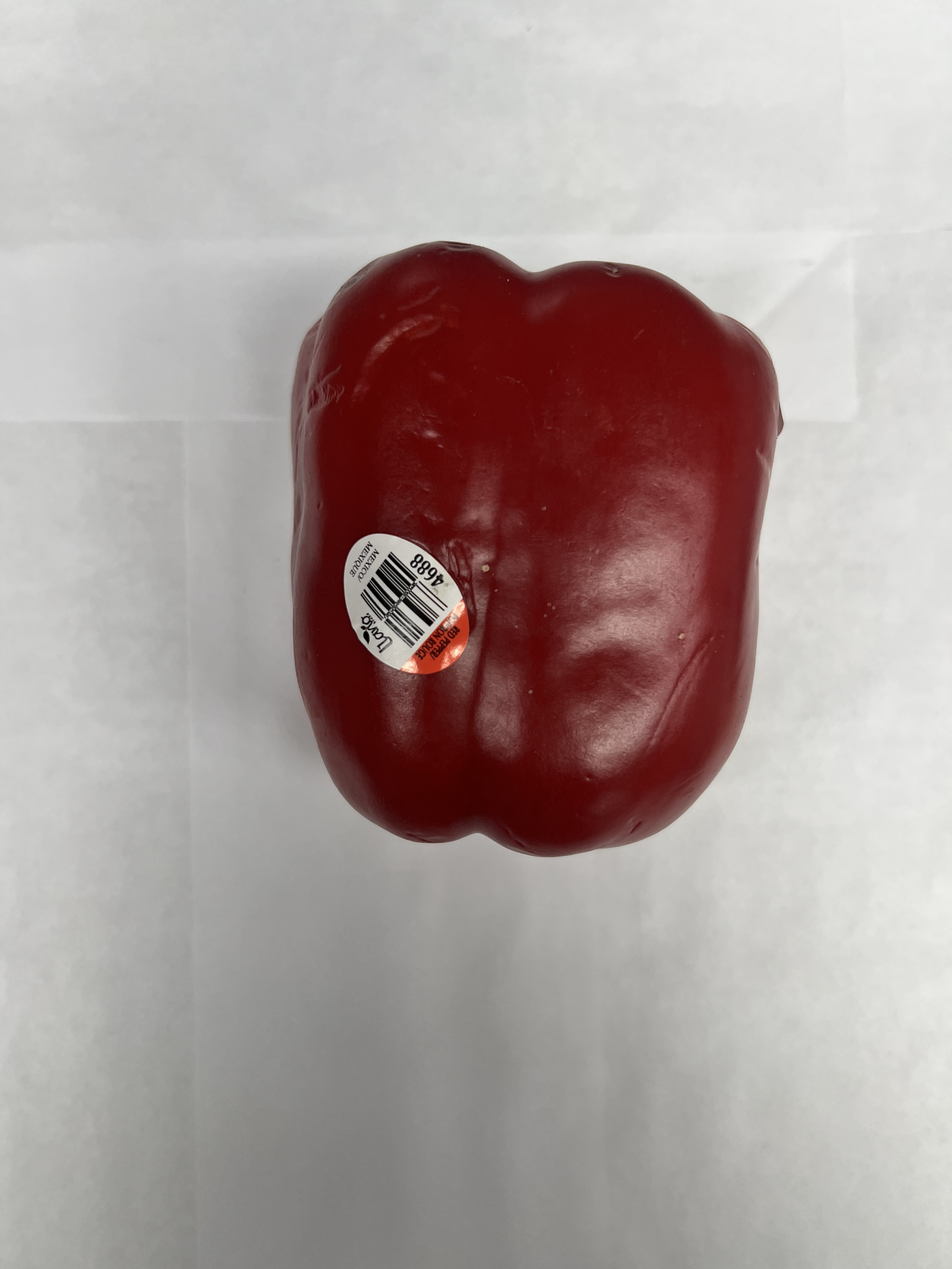produce: (279, 234, 792, 863)
